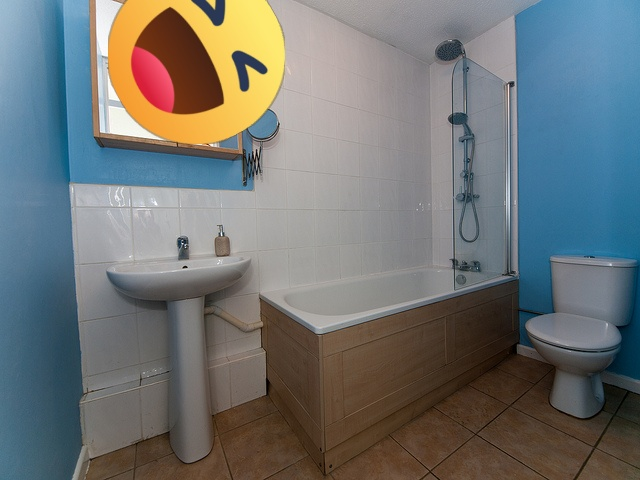haha: (108, 0, 285, 144)
